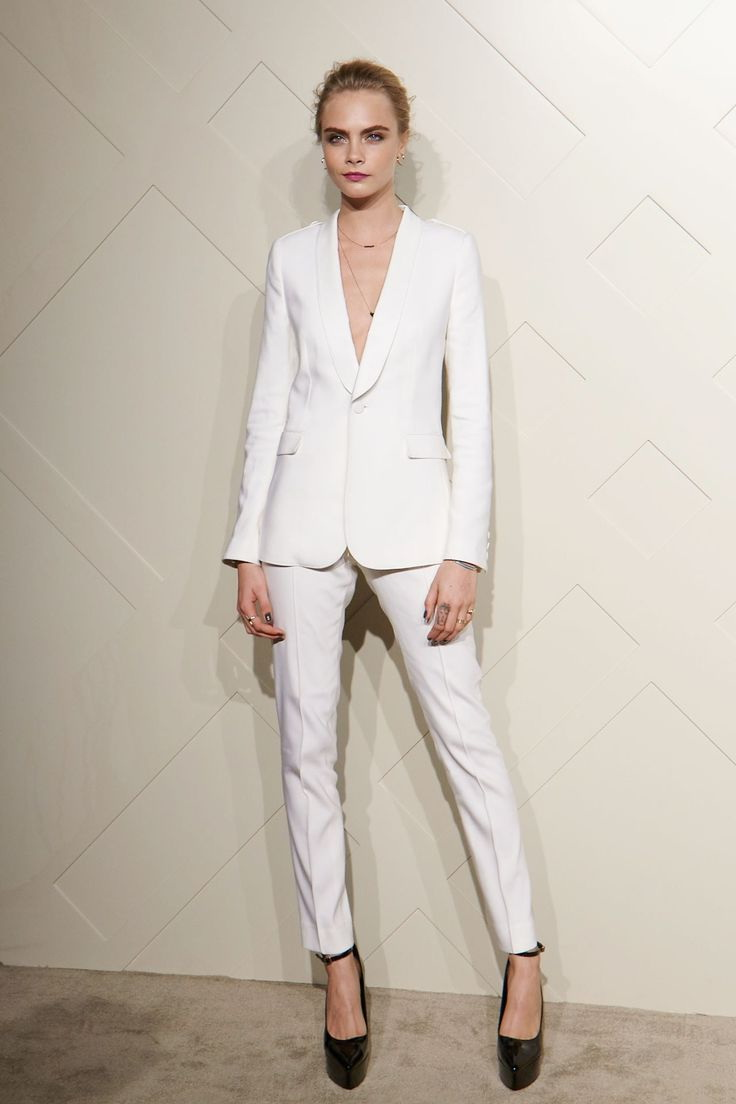feet: (269, 886, 574, 1102)
